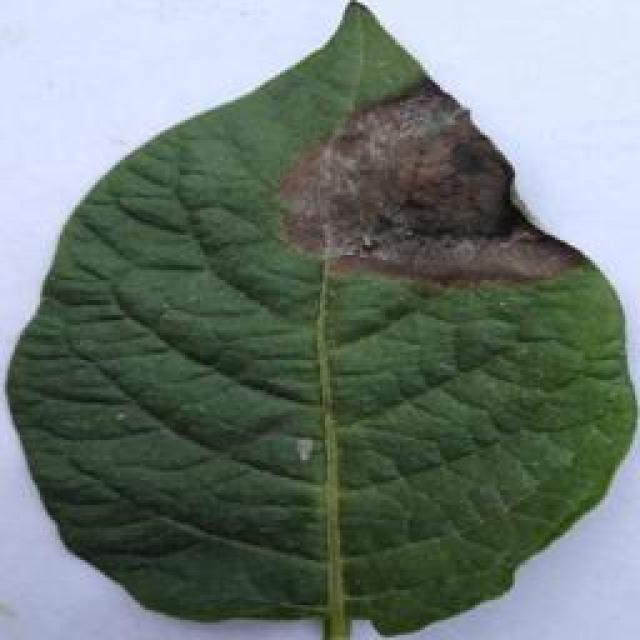Potato_Late_Blight: (4, 11, 634, 638)
